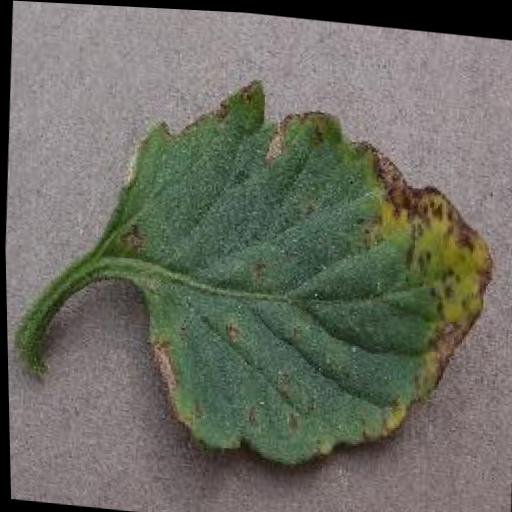Bacterial Spot: (84, 56, 512, 485)
